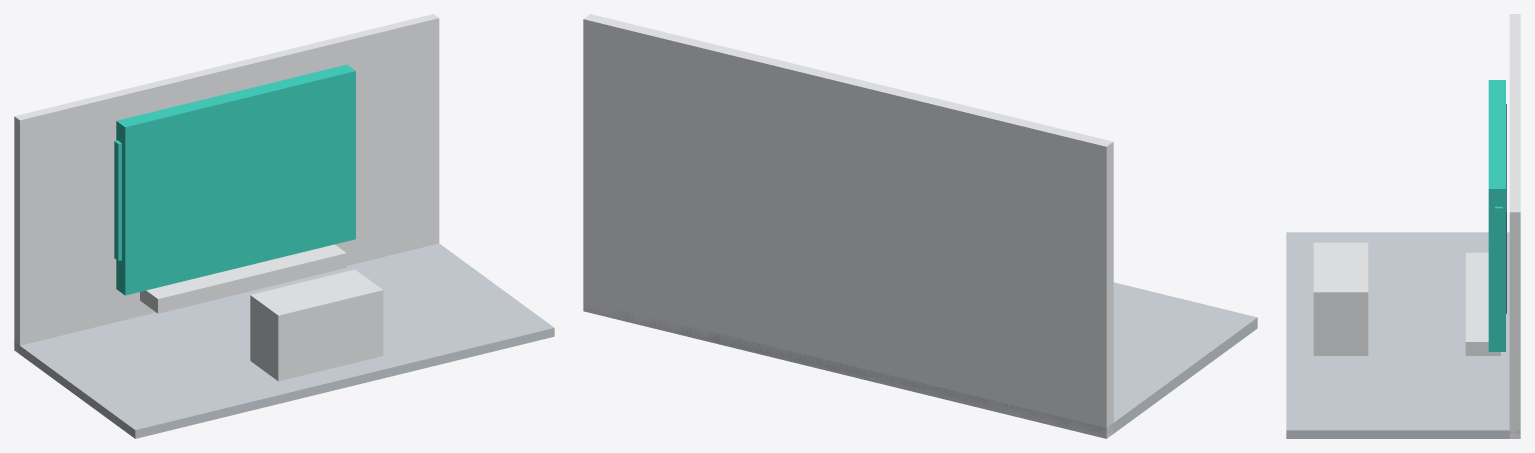
3 renders of one model, left to right at view 1: azimuth 30°, elevation 25°; view 2: azimuth 150°, elevation 25°; view 3: azimuth 270°, elevation 25°, orthographic. The views are drawn at different scales.
Parts seen in each view (by area): view 1: Exhibition Booth Concept; view 2: Exhibition Booth Concept; view 3: Exhibition Booth Concept.
Boxes of the visible parts, <box> form: Exhibition Booth Concept: <box>14,14,554,438</box>; Exhibition Booth Concept: <box>583,14,1257,438</box>; Exhibition Booth Concept: <box>1286,14,1520,438</box>.
Size of the model in its own units: 6 by 3.2 by 3.
